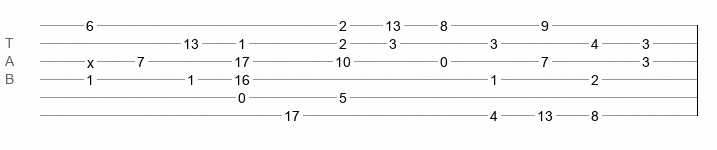0: (238, 90, 246, 100), (440, 54, 448, 64)
1: (86, 72, 94, 82), (187, 72, 195, 82), (238, 36, 246, 46), (490, 72, 498, 82)
10: (335, 54, 351, 64)
13: (183, 36, 199, 46), (385, 18, 401, 28), (537, 108, 553, 118)
16: (234, 72, 250, 82)
17: (234, 54, 250, 64), (284, 108, 300, 118)
2: (339, 18, 347, 28), (339, 36, 347, 46), (591, 72, 599, 82)
3: (389, 36, 397, 46), (490, 36, 498, 46), (642, 36, 650, 46), (642, 54, 650, 64)
4: (490, 108, 498, 118), (591, 36, 599, 46)
5: (339, 90, 347, 100)
6: (86, 18, 94, 28)
7: (137, 54, 145, 64), (541, 54, 549, 64)
8: (440, 18, 448, 28), (591, 108, 599, 118)
9: (541, 18, 549, 28)
x: (87, 55, 94, 63)
